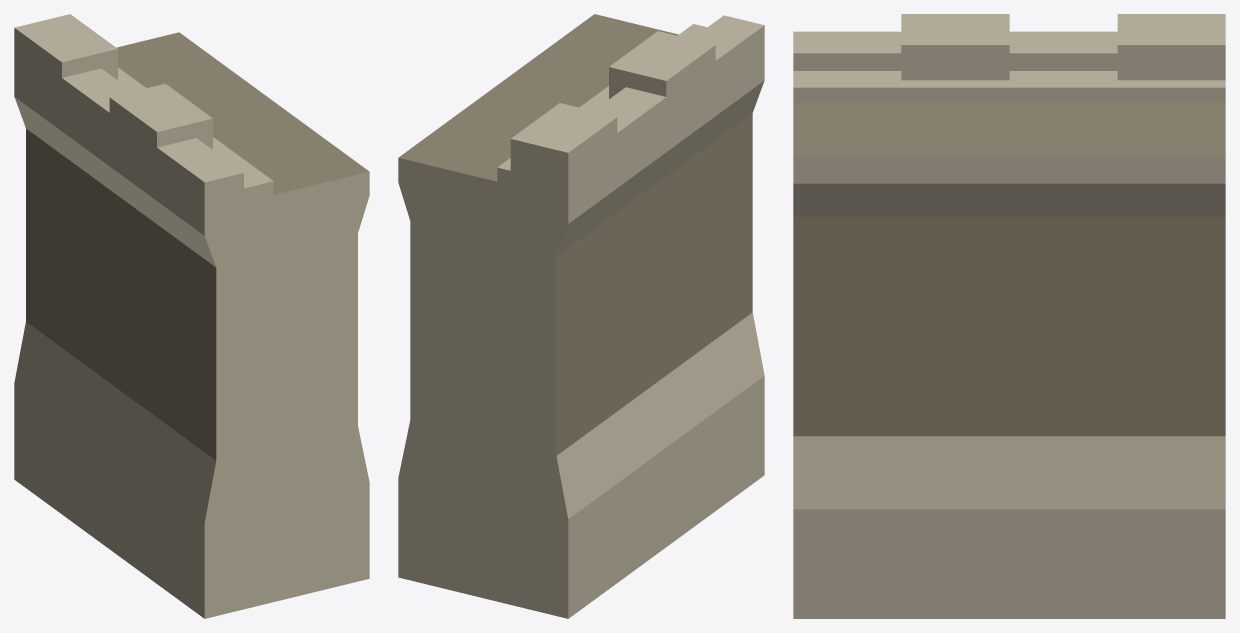
File: wallNarrow.glb
3 renders of one model, left to right at view 1: azimuth 30°, elevation 25°; view 2: azimuth 150°, elevation 25°; view 3: azimuth 270°, elevation 25°, orthographic. The views are drawn at different scales.
Parts seen in each view (by area): view 1: mesh_0, mesh_1; view 2: mesh_0, mesh_1; view 3: mesh_0, mesh_1.
Part boxes in pixels (x1,y1,x2,y2): mesh_0: (14,14,369,618); mesh_1: (26,32,368,460); mesh_0: (398,15,764,618); mesh_1: (399,14,752,455); mesh_0: (793,14,1225,618); mesh_1: (793,103,1225,436).
Size of the model in its own units: 5 by 13.1 by 10.
